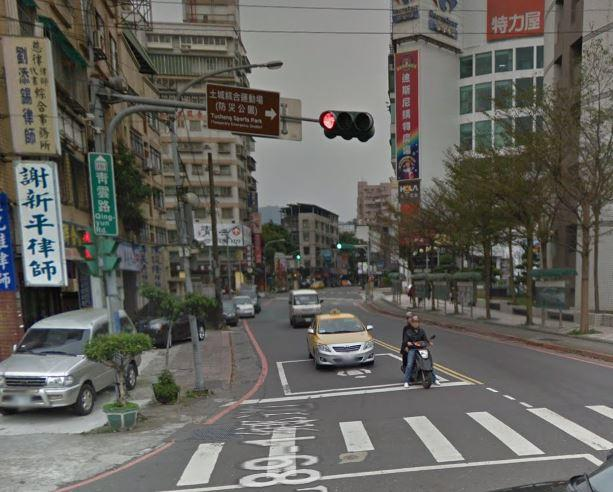red_traffic_light: (315, 107, 377, 135)
